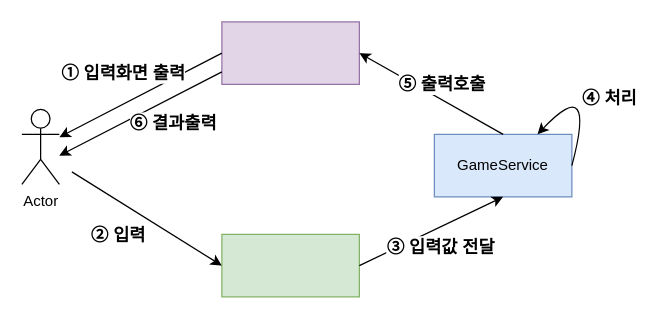
This 659x319 diagram has some shape labels left out. Here are the shapes that lost their labels. From the top down, the centre of each, then its label:
pixel 290 52: UIService
pixel 290 265: ScanService
